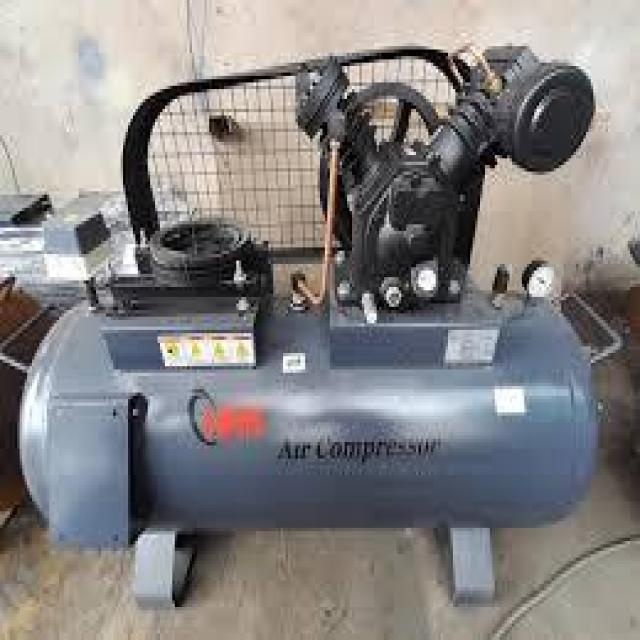compressor: (11, 29, 603, 607)
